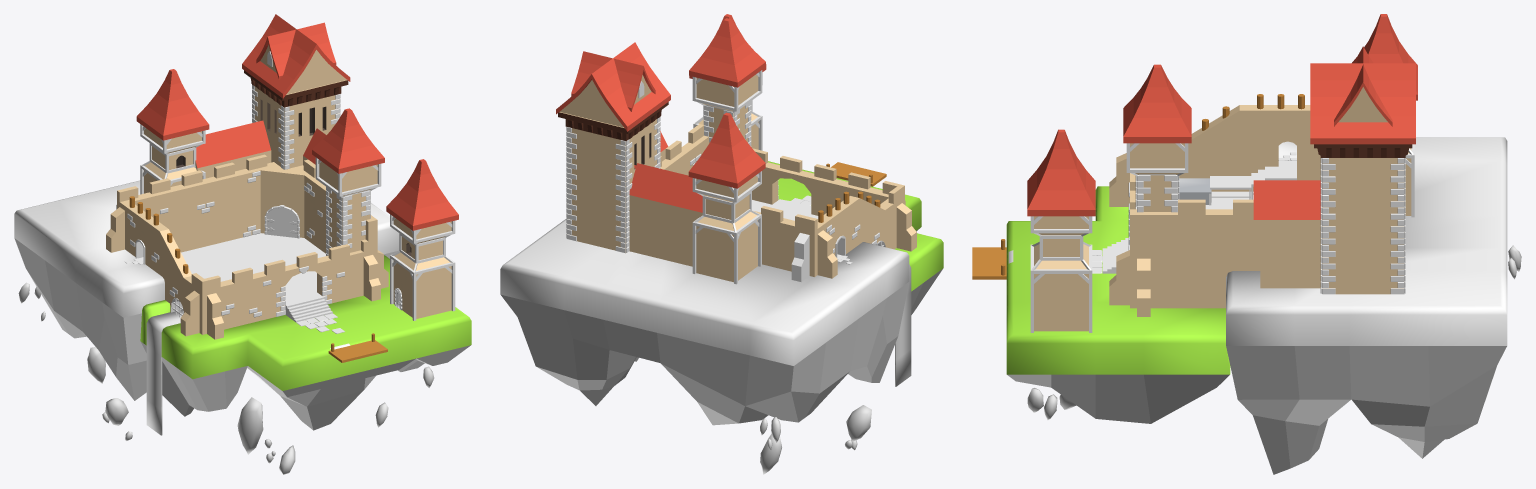
File: AdventureAcademy.fbx
3 views of the same model, side by side, from view 1: azimuth 30°, elevation 25°; view 2: azimuth 150°, elevation 25°; view 3: azimuth 270°, elevation 25° (orthographic). The views are drawn at different scales.
Parts seen in each view (by area): view 1: Plane.014, Plane.002, Plane.006, Plane.009, Plane.012, Plane.019, Plane.013, Plane.010, Plane.017, Plane.007, Plane.011, Plane.032 (+9 smaller); view 2: Plane.006, Plane.013, Plane.009, Plane.014, Plane.017, Plane.011, Plane.010, Plane.002, Plane.032, Cube.005, Plane.012, Cube.003 (+3 smaller); view 3: Plane.006, Plane.014, Plane.013, Plane.009, Plane.002, Plane.012, Plane.010, Plane.018, Plane.019, Plane.017, Plane.008, Stairs (+1 smaller).
Part boxes in pixels (x1,y1,x2,y2): Plane.014: [106, 154, 388, 339]; Plane.002: [140, 255, 471, 390]; Plane.006: [14, 180, 399, 317]; Plane.009: [242, 14, 350, 169]; Plane.012: [386, 159, 458, 320]; Plane.019: [140, 341, 470, 430]; Plane.013: [14, 238, 398, 400]; Plane.010: [312, 108, 384, 255]; Plane.017: [136, 69, 209, 194]; Plane.007: [181, 233, 325, 304]; Plane.011: [195, 120, 271, 178]; Plane.032: [146, 310, 182, 435]; Plane.006: [500, 219, 909, 365]; Plane.013: [501, 282, 909, 425]; Plane.009: [556, 42, 670, 253]; Plane.014: [660, 124, 916, 278]; Plane.017: [688, 112, 765, 284]; Plane.011: [629, 163, 702, 266]; Plane.010: [689, 18, 765, 146]; Plane.002: [768, 161, 943, 291]; Plane.032: [895, 264, 911, 386]; Cube.005: [791, 233, 809, 281]; Plane.012: [689, 14, 766, 150]; Cube.003: [846, 405, 871, 441]; Plane.006: [1226, 137, 1507, 345]; Plane.014: [1109, 94, 1322, 316]; Plane.013: [1226, 346, 1506, 474]; Plane.009: [1310, 46, 1415, 294]; Plane.002: [1006, 186, 1230, 374]; Plane.012: [1027, 129, 1095, 332]; Plane.010: [1123, 64, 1191, 212]; Plane.018: [1253, 180, 1320, 288]; Plane.019: [1007, 374, 1229, 423]; Plane.017: [1352, 14, 1417, 217]; Plane.008: [972, 239, 1006, 279]; Stairs: [1102, 238, 1128, 273].
Size of the model in its own units: 6000 by 7101 by 8010.
